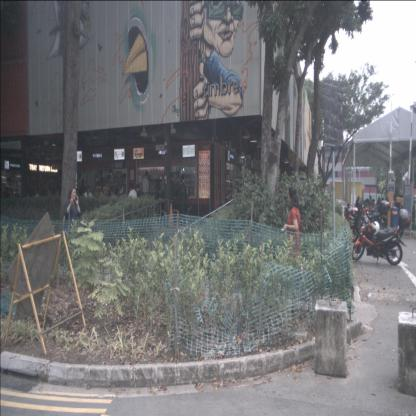human-pedestrian-adult: (282, 187, 302, 300), (63, 184, 83, 273), (177, 174, 192, 236), (140, 171, 155, 220), (154, 184, 170, 226), (116, 183, 130, 223), (98, 183, 112, 221), (82, 186, 96, 222), (126, 181, 138, 219), (134, 181, 143, 214), (369, 199, 379, 221), (355, 194, 363, 216), (366, 194, 374, 206)
movable_object-trafficcone: (166, 203, 175, 229)
vehicle-motorcycle: (352, 209, 412, 266), (347, 199, 391, 244)
